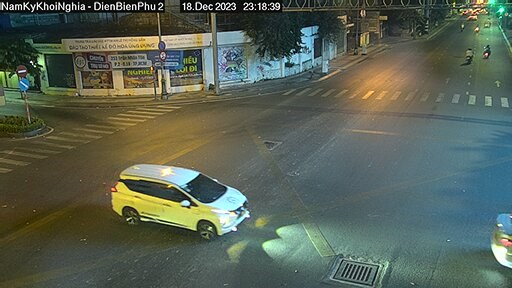car: (106, 158, 251, 238), (487, 199, 512, 266)
motorbike: (461, 47, 480, 68), (480, 41, 497, 59)
